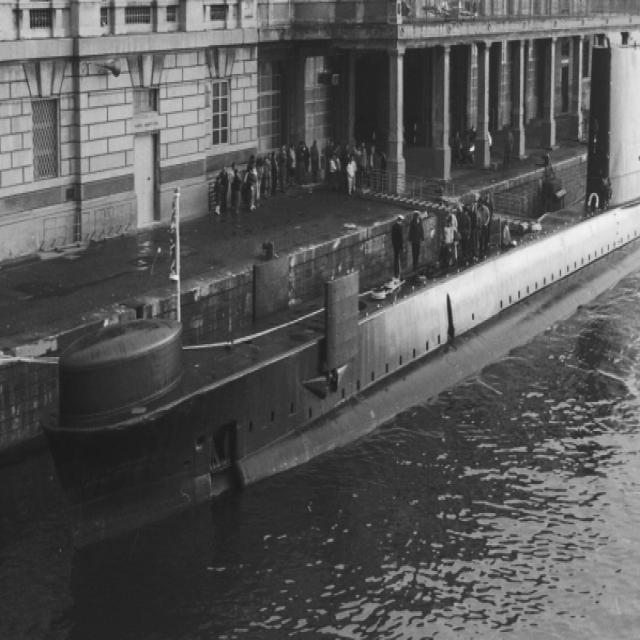submarine: (41, 28, 640, 562)
